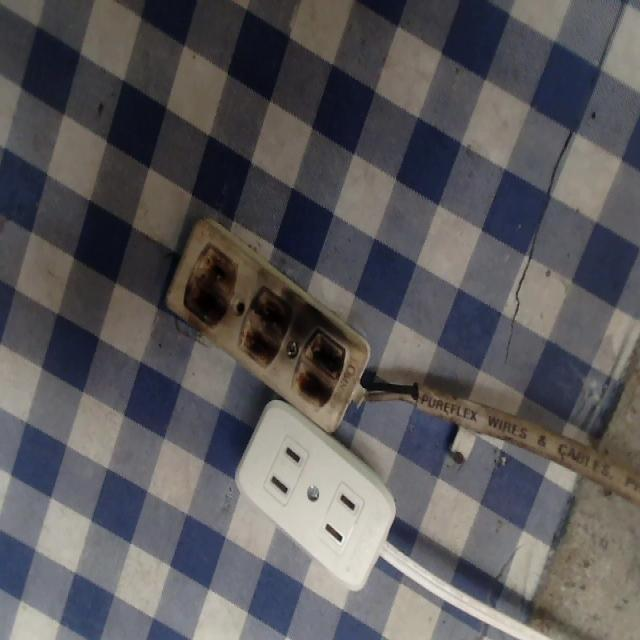-: (176, 237, 243, 328), (288, 323, 345, 412), (234, 284, 295, 367)
